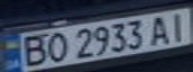2: (72, 26, 96, 60)
3: (124, 17, 151, 51), (109, 20, 130, 53)
9: (90, 24, 112, 56)
A: (145, 12, 175, 46)
B: (15, 33, 51, 69)
I: (163, 9, 193, 42)
O: (39, 29, 72, 63)
